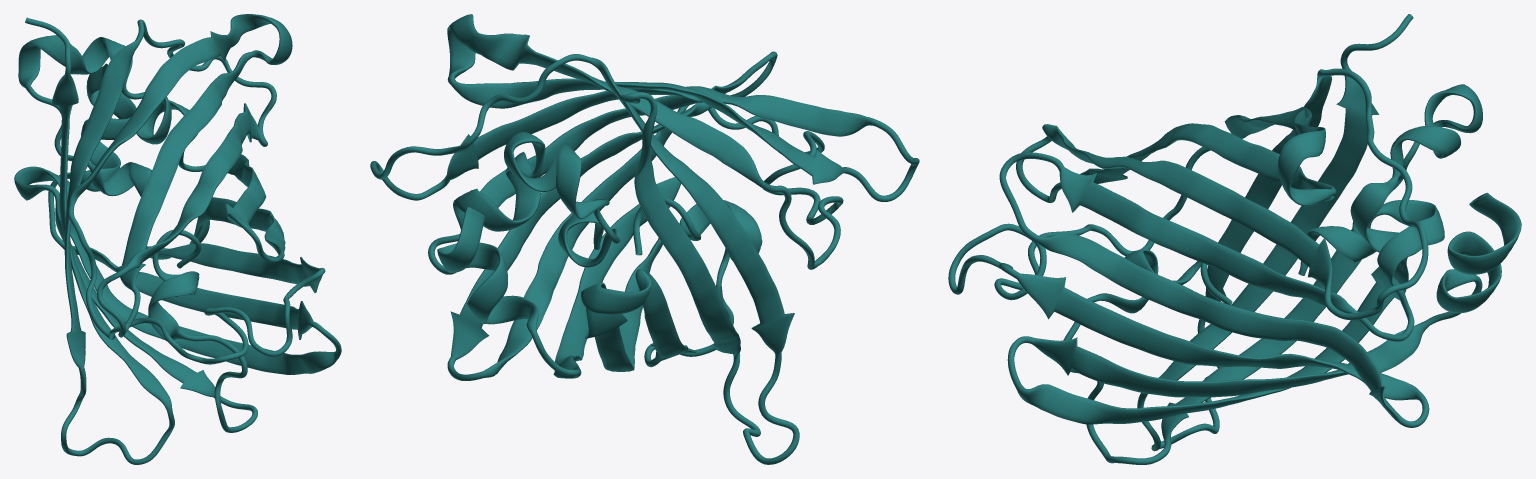
Rendered from 02_cit.obj.
The picture shows the model from 3 angles, left to right: view 1: azimuth 30°, elevation 25°; view 2: azimuth 150°, elevation 25°; view 3: azimuth 270°, elevation 25°; orthographic projection. The views are drawn at different scales.
Visible parts, largest first — view 1: vmd_mol1_rep0; view 2: vmd_mol1_rep0; view 3: vmd_mol1_rep0.
Part boxes in pixels (left/top/right/bottom): vmd_mol1_rep0: left=14, top=14, right=341, bottom=464; vmd_mol1_rep0: left=370, top=14, right=919, bottom=464; vmd_mol1_rep0: left=948, top=14, right=1521, bottom=464.
Size of the model in its own units: 1.04 by 1.14 by 1.37.
